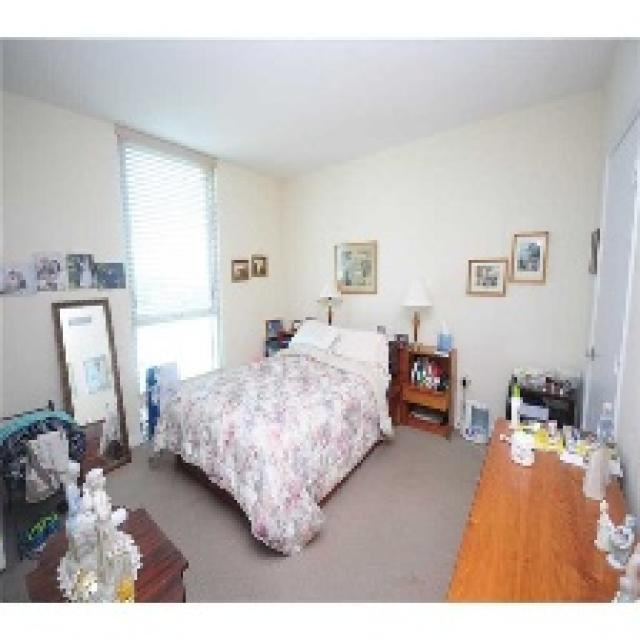Bed: (149, 317, 400, 554)
